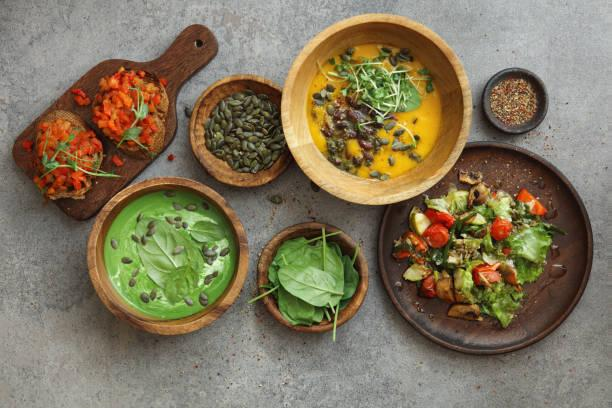Braised Crucian Carp: (378, 142, 590, 353), (9, 22, 217, 220), (280, 12, 466, 205), (84, 175, 243, 333)
